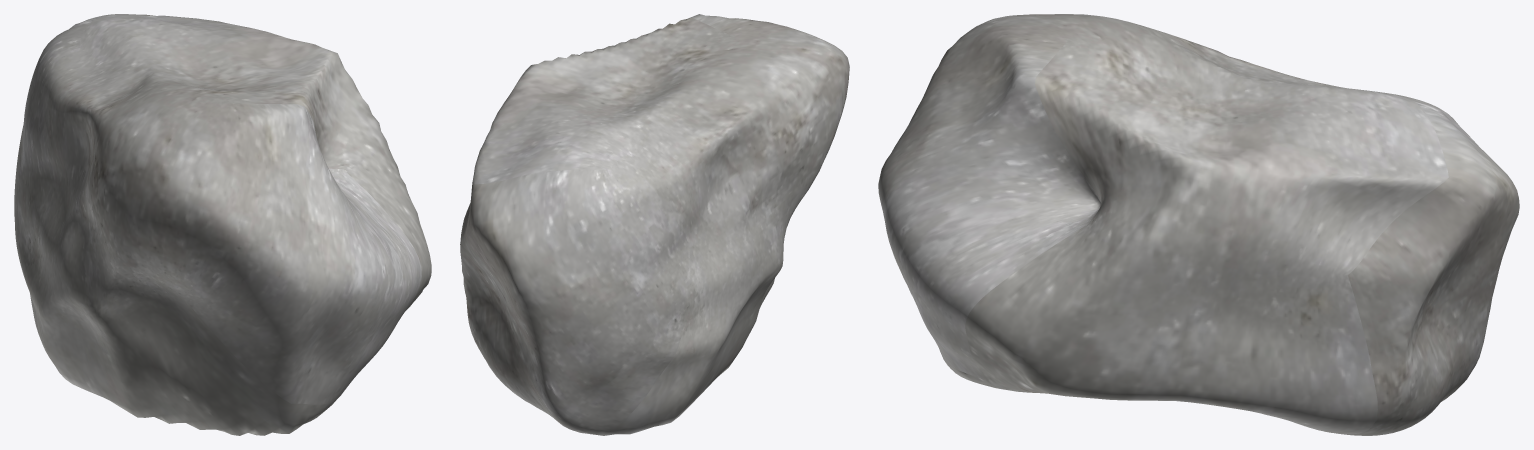
Rendered from 10_大理石.glb.
3 views of the same model, side by side, from view 1: azimuth 30°, elevation 25°; view 2: azimuth 150°, elevation 25°; view 3: azimuth 270°, elevation 25° (orthographic). The views are drawn at different scales.
Visible parts, largest first — view 1: 立方體.004; view 2: 立方體.004; view 3: 立方體.004.
Boxes of the visible parts, left/top/right/bottom form: 立方體.004: left=14, top=14, right=431, bottom=435; 立方體.004: left=460, top=14, right=849, bottom=435; 立方體.004: left=878, top=14, right=1519, bottom=435.
Bounding box in the file's own units: 5.92 × 6.51 × 10.03.
1 material, 1 textured.
